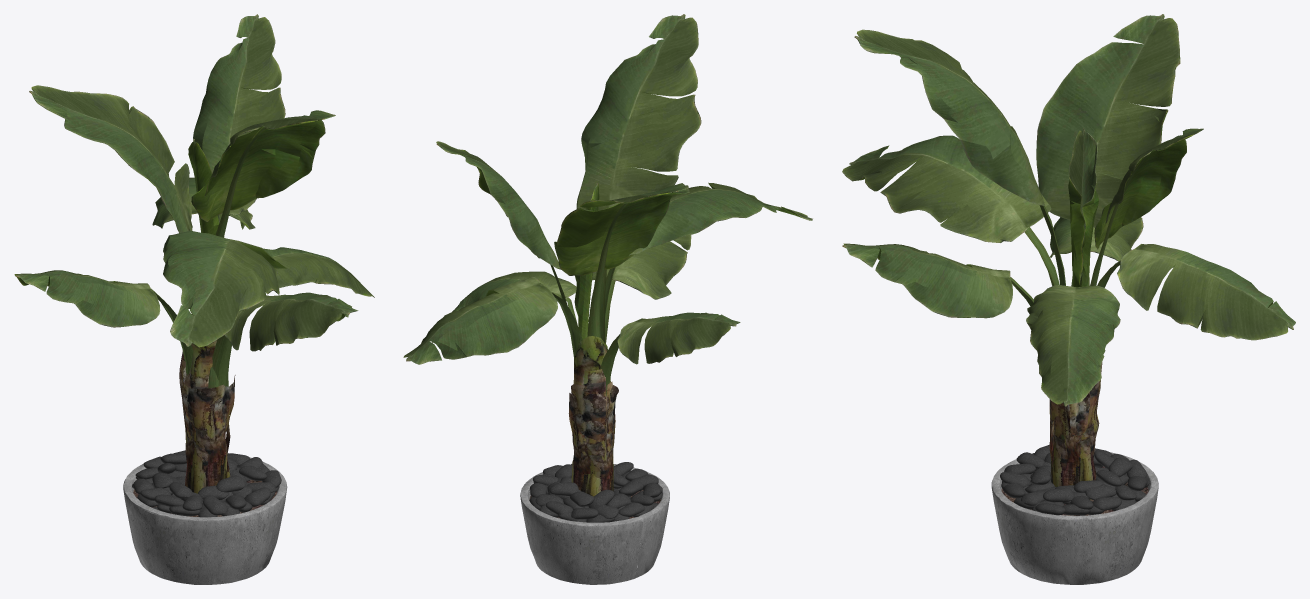
Rendered from plant_6.glb.
3 renders of one model, left to right at view 1: azimuth 30°, elevation 25°; view 2: azimuth 150°, elevation 25°; view 3: azimuth 270°, elevation 25°, orthographic. The views are drawn at different scales.
Visible parts, largest first — view 1: Plants_VOL01_06; view 2: Plants_VOL01_06; view 3: Plants_VOL01_06.
Part boxes in pixels (<box>): Plants_VOL01_06: <box>14,14,374,584</box>; Plants_VOL01_06: <box>403,14,812,584</box>; Plants_VOL01_06: <box>842,14,1295,584</box>.
Size of the model in its own units: 0.891 by 1.31 by 1.03.
8 materials, 8 textured.
